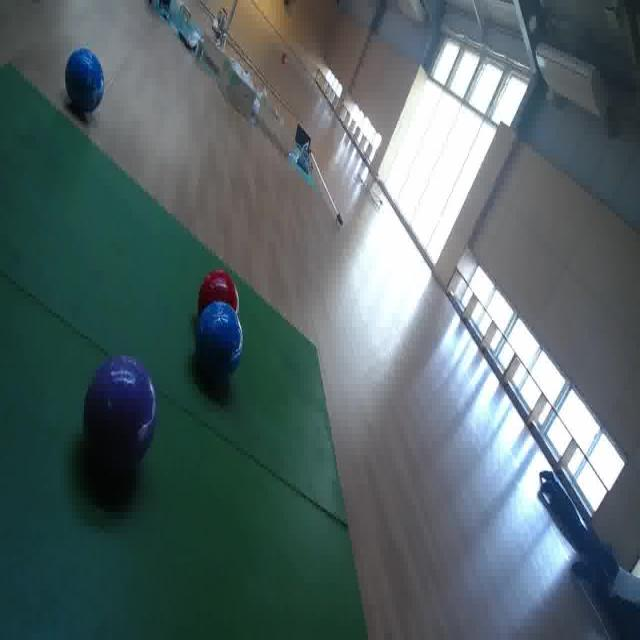blue_ball: (195, 299, 243, 383), (64, 47, 105, 119)
purple_ball: (84, 350, 156, 478)
red_ball: (197, 268, 242, 324)
